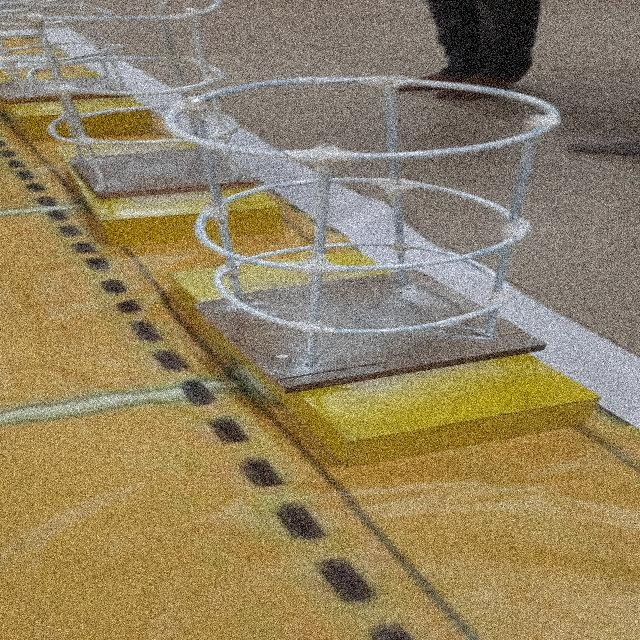silo: (140, 66, 568, 384), (24, 43, 236, 217)
